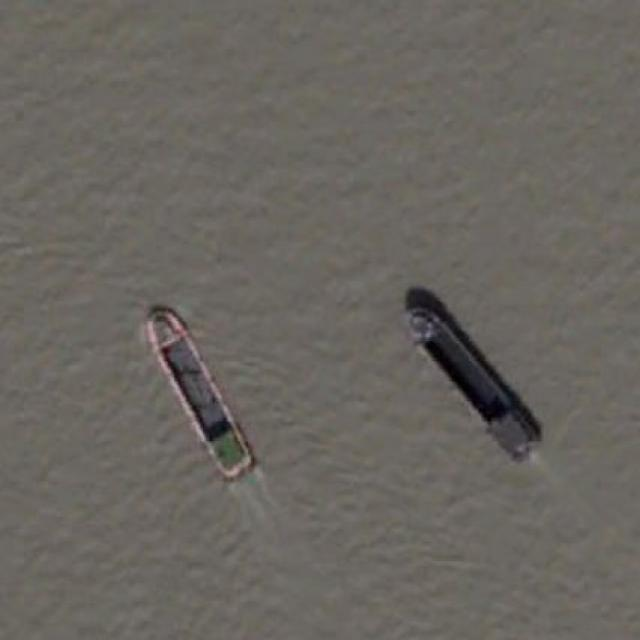boat: (401, 299, 544, 463), (143, 300, 257, 483)
